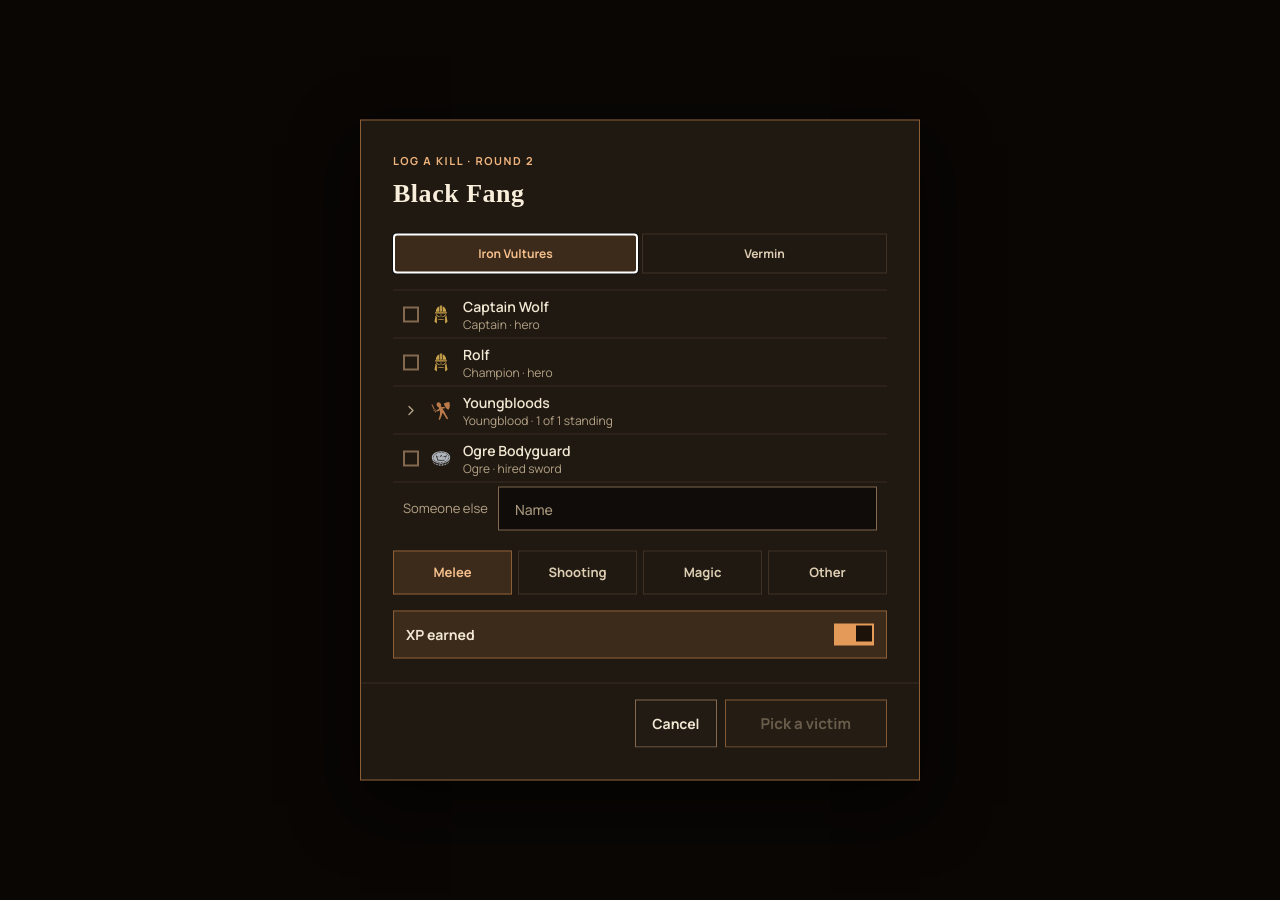
Test: the kill sheet's victims › opens a henchmen group to its members, one of whom is the victim
This screenshot has width=1280, height=900.
Later steps or results of the test are not shown.
Click the button "Youngbloods Youngblood · 1 of 1 standing".
click(506, 402)  # box [393,386,887,434]
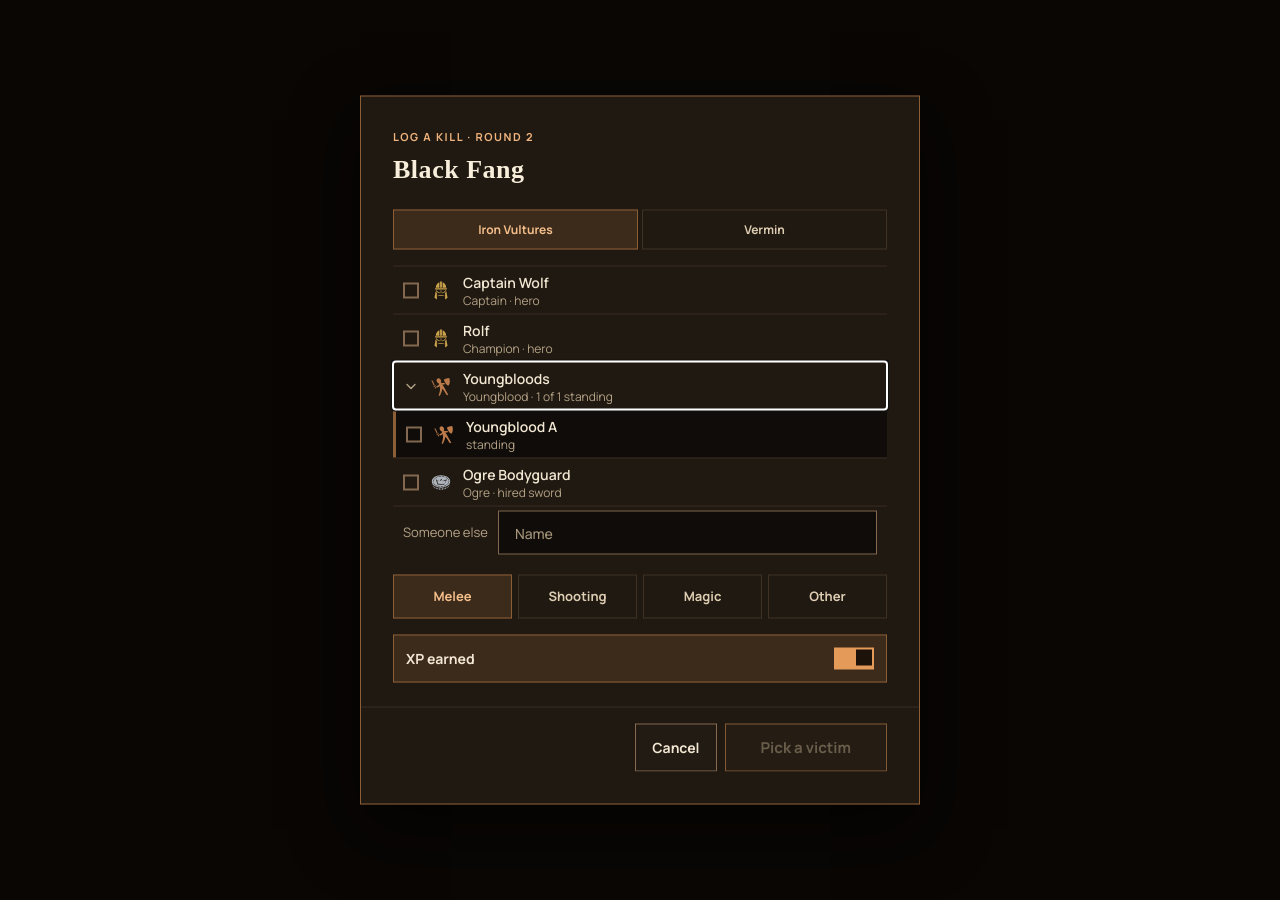
expect the button "Youngbloods Youngblood · 1 of 1 standing" is expanded: met, box [393,362,887,410]
